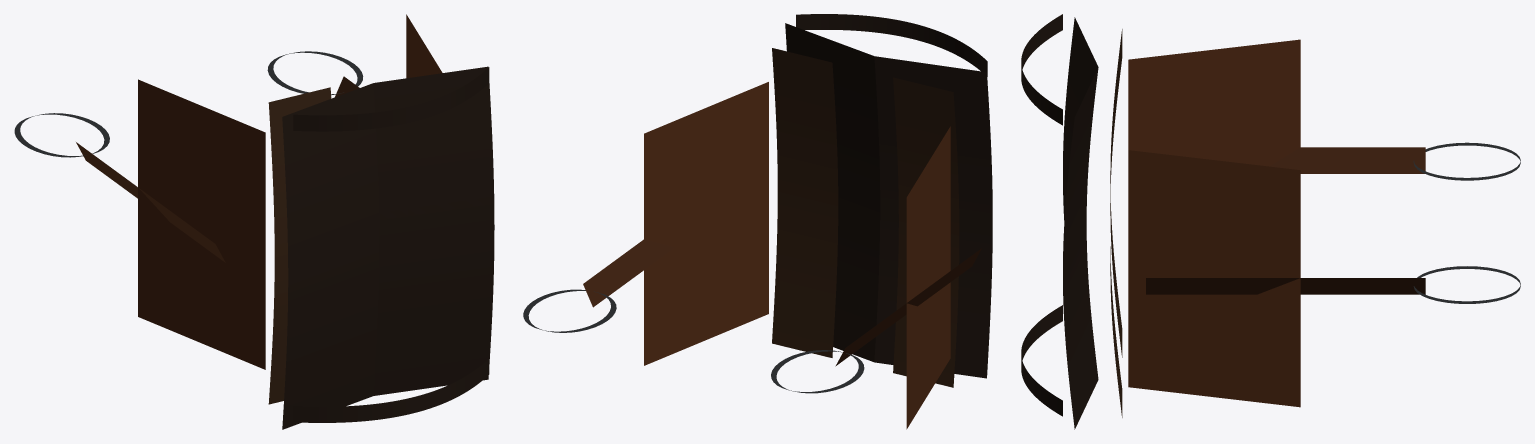
The model's file is SM_RatiborSaddle_1348.obj.
The picture shows the model from 3 angles, left to right: view 1: azimuth 30°, elevation 25°; view 2: azimuth 150°, elevation 25°; view 3: azimuth 270°, elevation 25°; orthographic projection. The views are drawn at different scales.
Visible parts, largest first — view 1: SM_RatiborSaddle_1348; view 2: SM_RatiborSaddle_1348; view 3: SM_RatiborSaddle_1348.
Boxes of the visible parts, x1=… form: SM_RatiborSaddle_1348: x1=14, y1=14, x2=494, y2=429; SM_RatiborSaddle_1348: x1=523, y1=14, x2=992, y2=429; SM_RatiborSaddle_1348: x1=1021, y1=14, x2=1520, y2=429.
Size of the model in its own units: 64.2 by 59 by 84.
